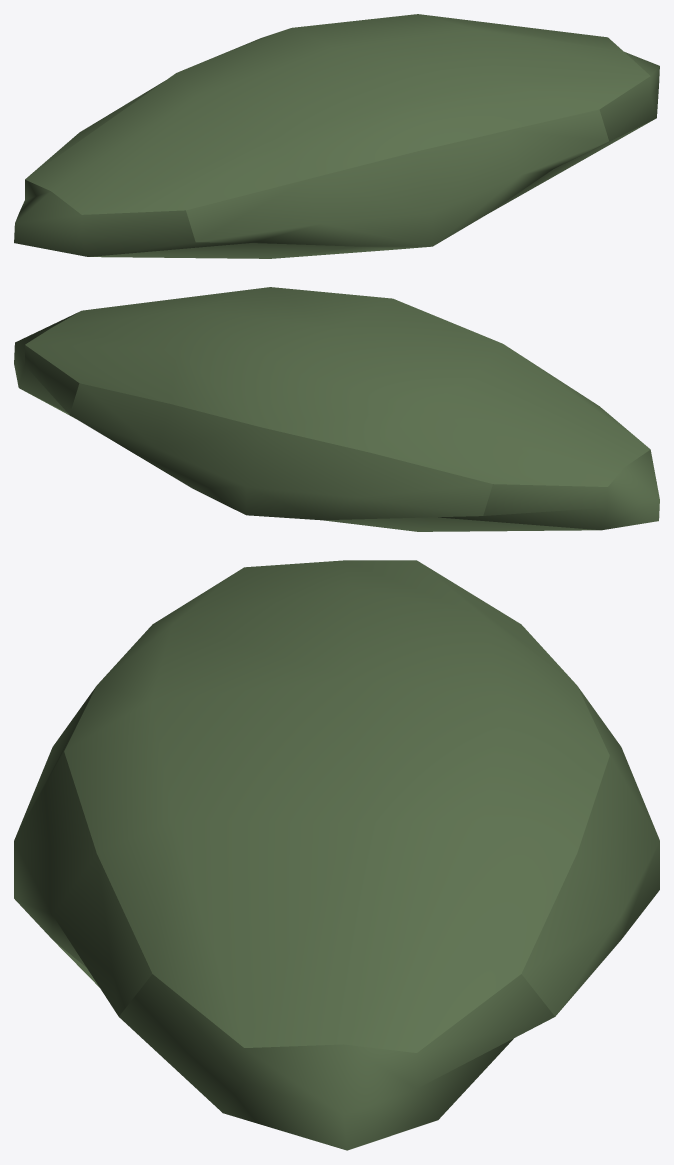
The model's file is Seed_FBX.fbx.
3 views of the same model, one above another, from view 1: azimuth 30°, elevation 25°; view 2: azimuth 150°, elevation 25°; view 3: azimuth 270°, elevation 25° (orthographic). The views are drawn at different scales.
Visible parts, largest first — view 1: Seed; view 2: Seed; view 3: Seed.
Part boxes in pixels (x1=…): Seed: x1=14, y1=14, x2=659, y2=258; Seed: x1=14, y1=287, x2=659, y2=531; Seed: x1=14, y1=560, x2=659, y2=1150.
Bounding box in the file's own units: 31.91 × 7.6 × 15.98.
